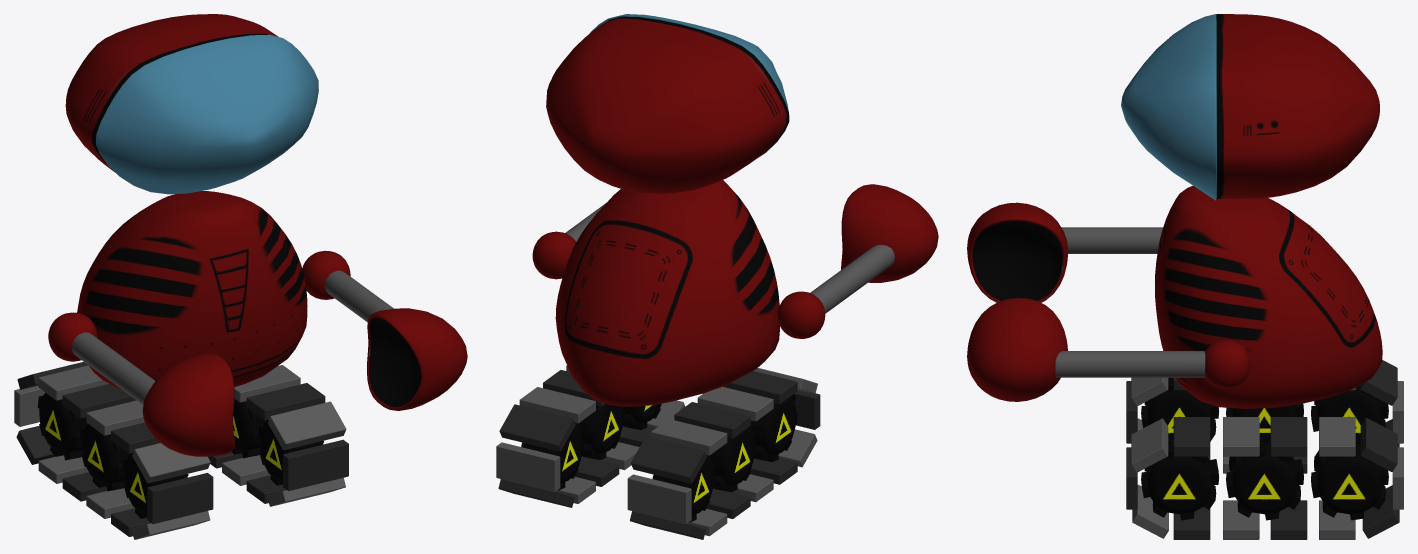
File: Bot2.fbx
3 views of the same model, side by side, from view 1: azimuth 30°, elevation 25°; view 2: azimuth 150°, elevation 25°; view 3: azimuth 270°, elevation 25° (orthographic). The views are drawn at different scales.
Visible parts, largest first — view 1: bot:polySurface1; view 2: bot:polySurface1; view 3: bot:polySurface1.
Part boxes in pixels (<box>): bot:polySurface1: <box>14,14,467,539</box>; bot:polySurface1: <box>496,14,938,539</box>; bot:polySurface1: <box>967,14,1403,539</box>.
Size of the model in its own units: 9.2 by 12.81 by 11.15.
